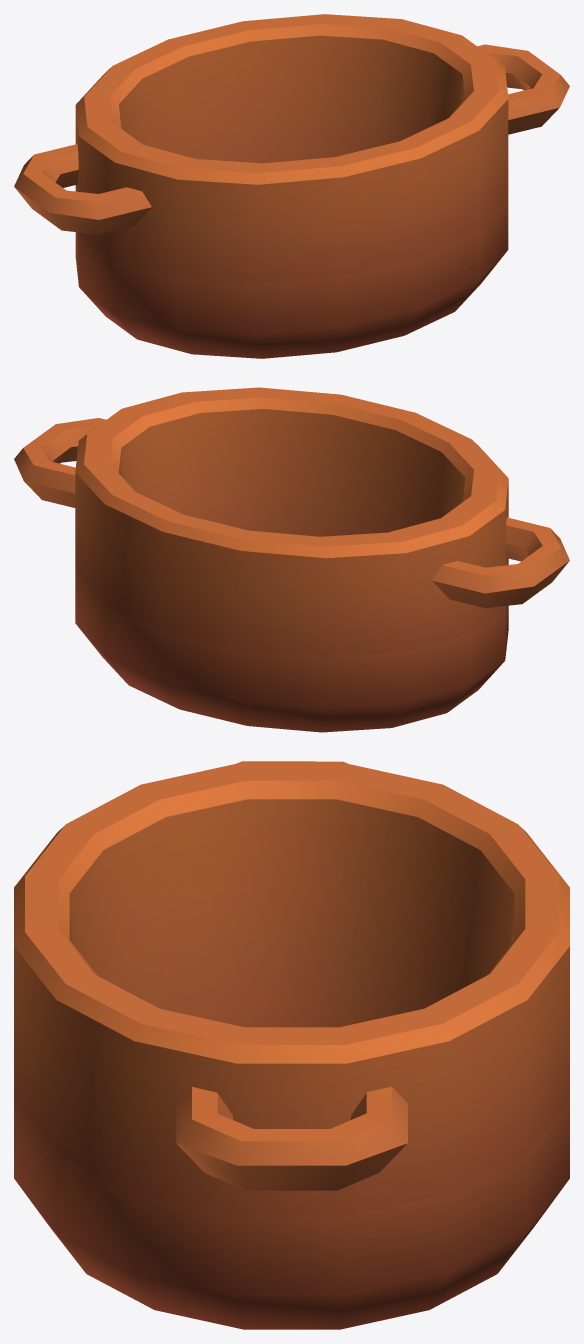
Rendered from pot-large.glb.
3 views of the same model, one above another, from view 1: azimuth 30°, elevation 25°; view 2: azimuth 150°, elevation 25°; view 3: azimuth 270°, elevation 25° (orthographic). The views are drawn at different scales.
Parts seen in each view (by area): view 1: pot_large; view 2: pot_large; view 3: pot_large.
Part boxes in pixels (box(x1,y1,x2,y2)): pot_large: box(14, 14, 569, 358); pot_large: box(14, 387, 569, 732); pot_large: box(14, 761, 569, 1329).
Size of the model in its own units: 2 by 0.7501 by 1.2.
1 material, 1 textured.
